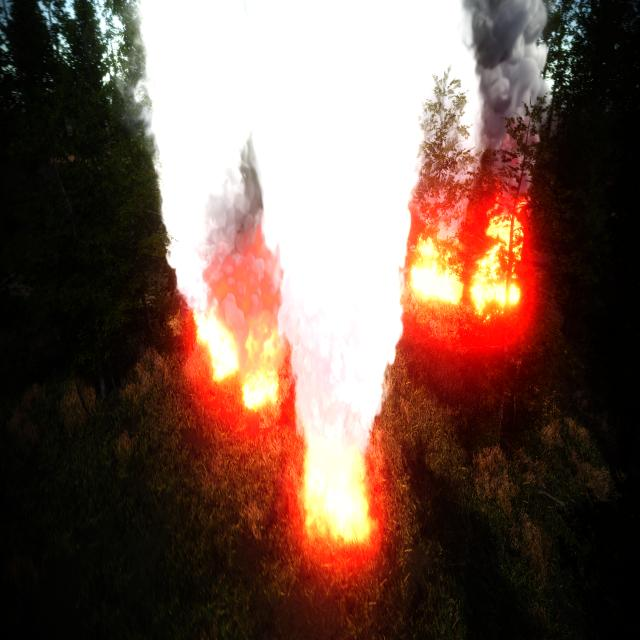Human: (281, 365, 293, 416)
